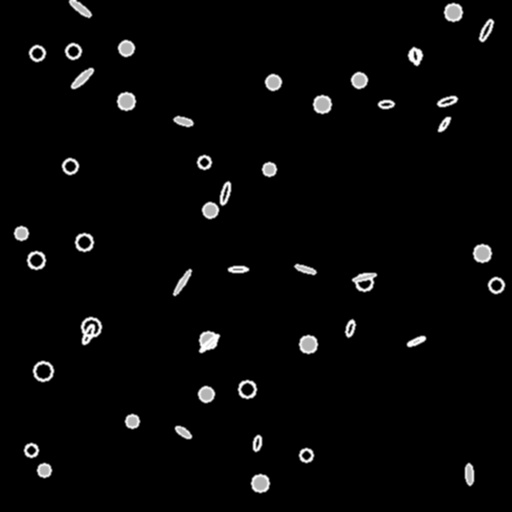pseudomonas: (172, 268, 192, 296), (70, 67, 94, 89), (198, 333, 220, 353), (69, 0, 91, 18), (478, 19, 494, 41), (81, 323, 95, 345), (219, 181, 231, 205), (174, 424, 192, 440), (294, 263, 316, 275), (437, 95, 457, 107), (352, 272, 376, 282), (437, 116, 451, 132), (344, 319, 356, 337), (407, 335, 425, 347), (173, 116, 193, 126), (410, 47, 420, 65), (465, 463, 473, 485), (253, 435, 261, 451), (378, 100, 394, 108), (229, 266, 247, 272)
synechocystis: (82, 318, 100, 336), (34, 362, 52, 380), (28, 252, 44, 268), (239, 381, 255, 397), (314, 96, 330, 112), (252, 475, 268, 491), (474, 245, 490, 261), (445, 4, 461, 20), (300, 336, 316, 352), (118, 93, 134, 109), (356, 274, 372, 290), (76, 234, 92, 250), (200, 332, 216, 348), (266, 75, 280, 89), (30, 46, 44, 60), (203, 203, 217, 217), (489, 278, 503, 292), (199, 387, 213, 401), (119, 41, 133, 55), (352, 73, 366, 87), (66, 44, 80, 58), (63, 159, 77, 173), (263, 163, 275, 175), (198, 156, 210, 168), (15, 227, 27, 239), (126, 415, 138, 427), (300, 449, 312, 461), (38, 464, 50, 476), (409, 49, 421, 61), (25, 444, 37, 456)
